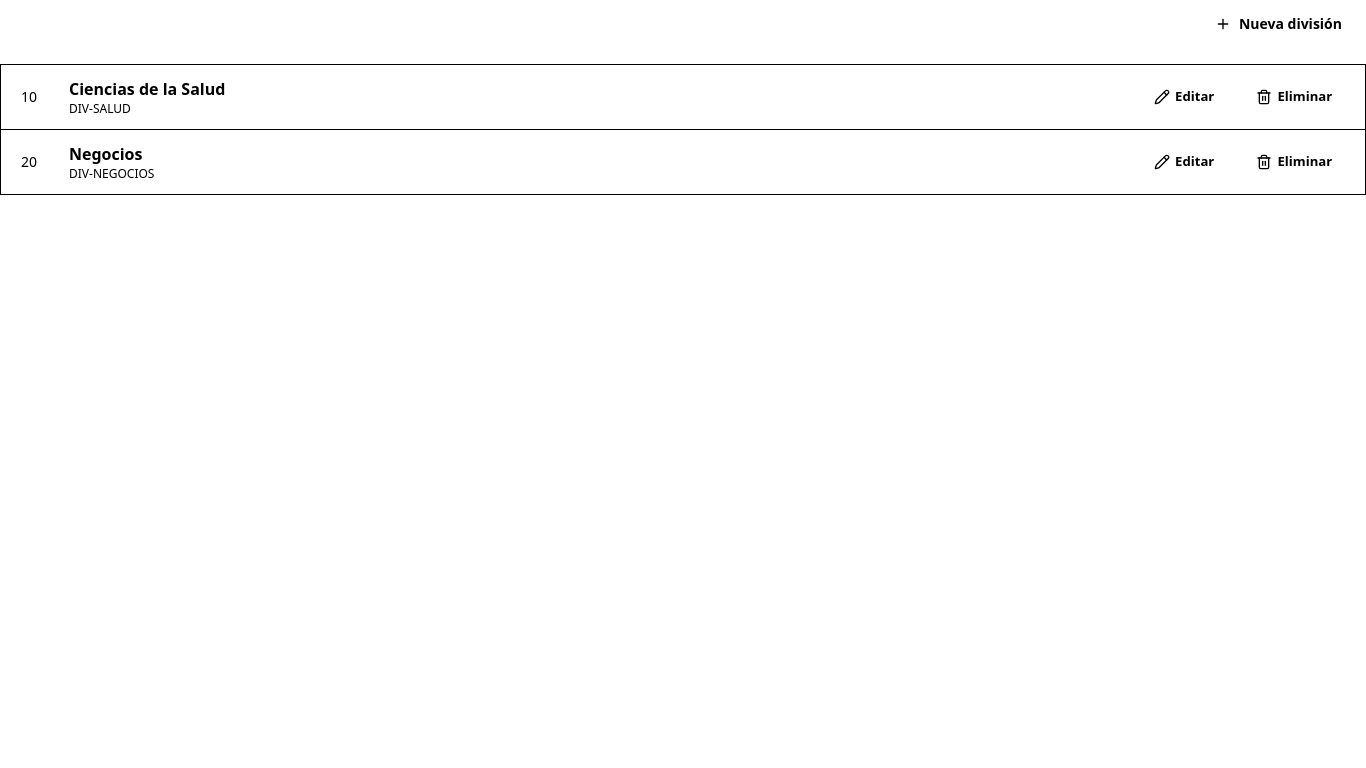
it: an empty division is deleted after a typed confirmation and disappears from the list
The width and height of the screenshot is (1366, 768).
Click the button with aria-label "Eliminar Ciencias de la Salud": [1294, 97] box [1243,77,1345,117]
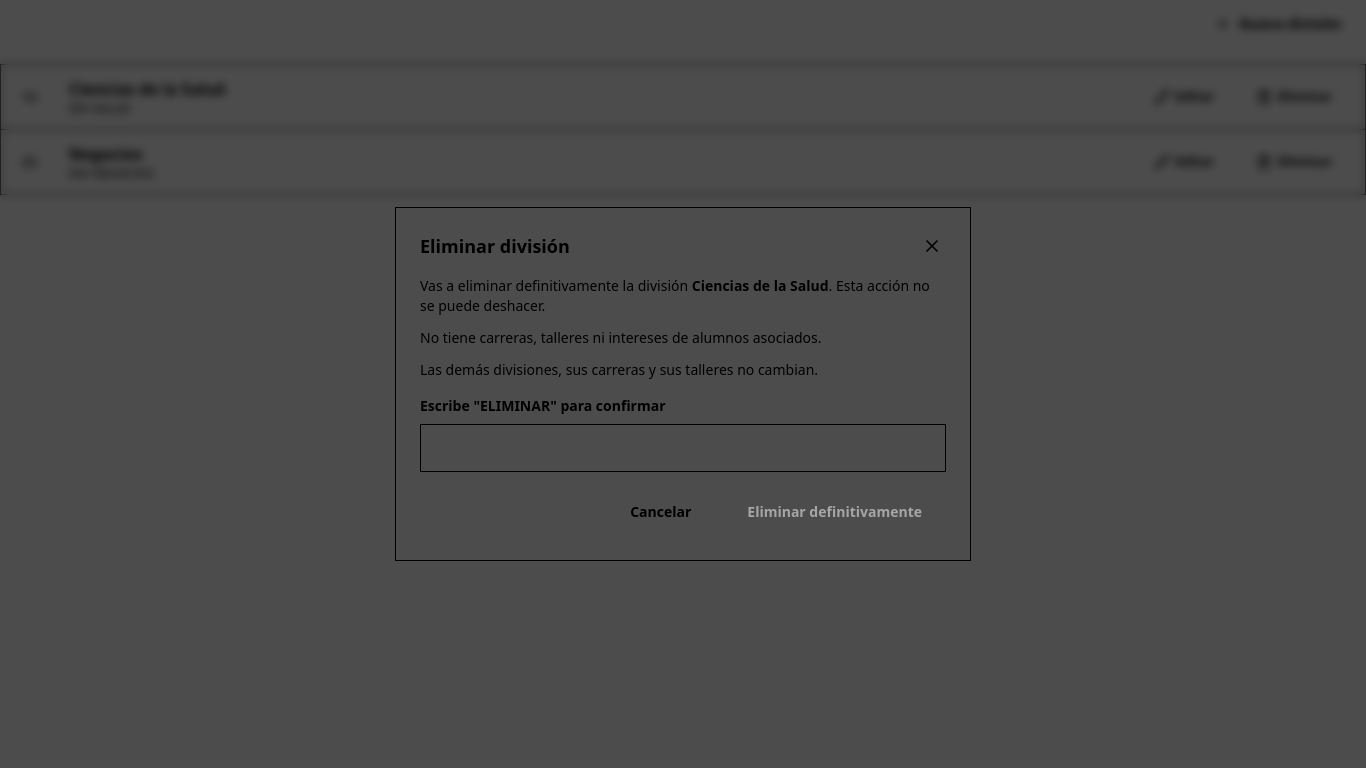
Result: the text "No tiene carreras, talleres ni intereses de alumnos asociados." is shown at [420,328,822,347]
Result: the button "Eliminar definitivamente" is disabled at [723,488,946,536]
In the field labelled "Escribe \"ELIMINAR\" para confirmar": [683, 448] box [420,424,946,472], type "ELIMINAR"
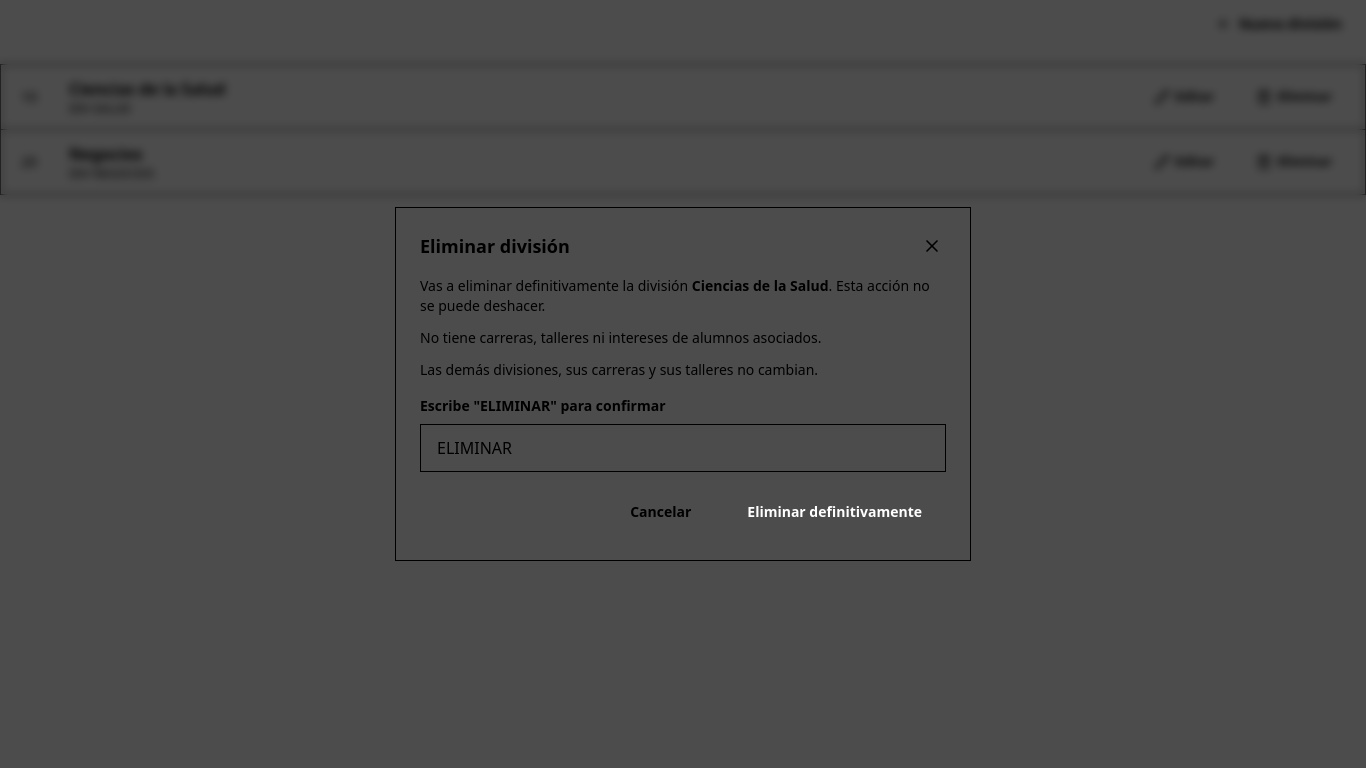
Click the button "Eliminar definitivamente": [835, 512] box [723,488,946,536]
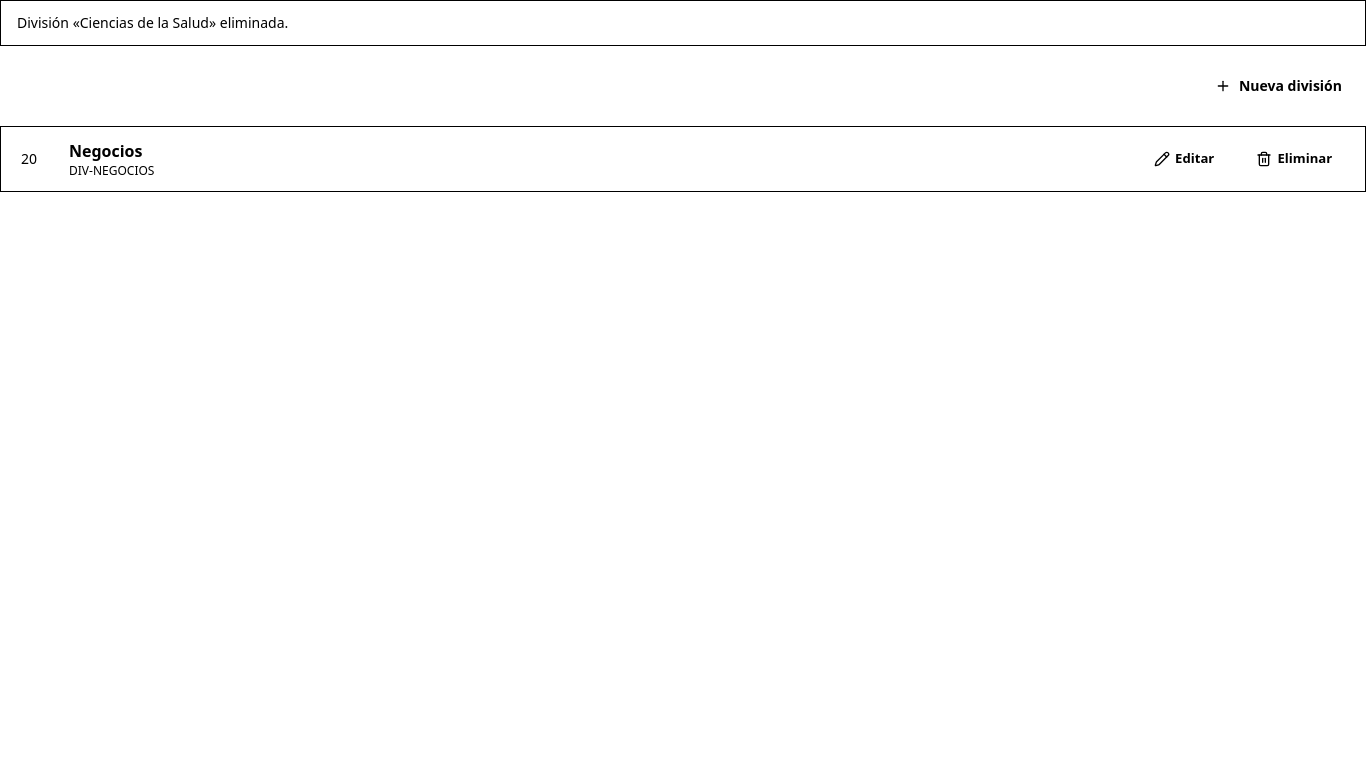
Expected: the text "Negocios" is shown, [69,140,142,162]
Result: the text "División «Ciencias de la Salud» eliminada." is shown at [0,0,1365,46]
Result: the dialog is gone
